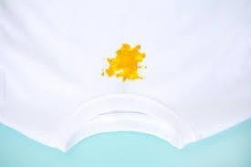mustard: (99, 44, 147, 80)
